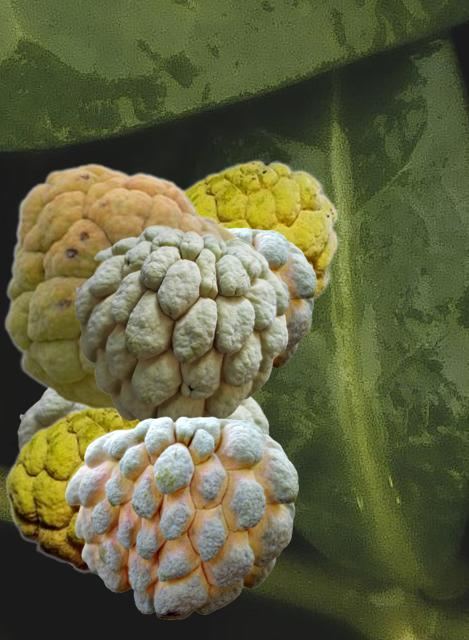atis: (3, 162, 241, 411), (17, 390, 268, 577), (65, 416, 297, 618), (74, 225, 287, 421), (4, 407, 138, 572), (183, 159, 338, 301), (231, 227, 315, 368)
